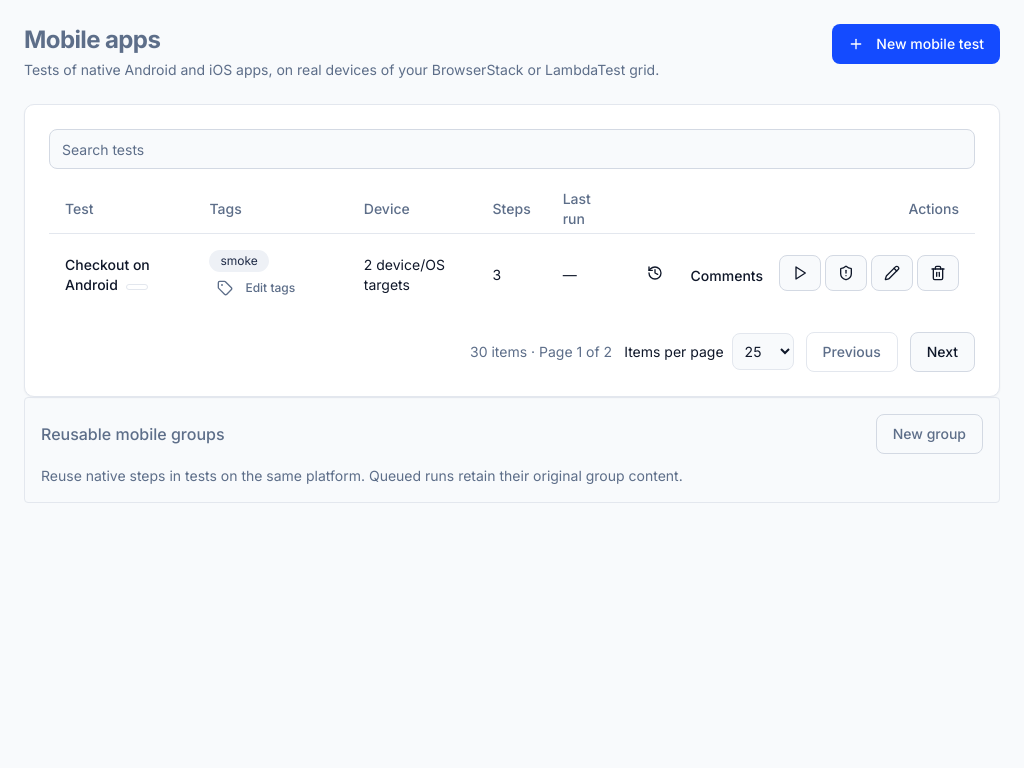
Scenario: loads matrix targets from the full definition before running
The width and height of the screenshot is (1024, 768).
Click the button named "Run Checkout on Android" at [800, 273], box left=779, top=255, right=821, bottom=291
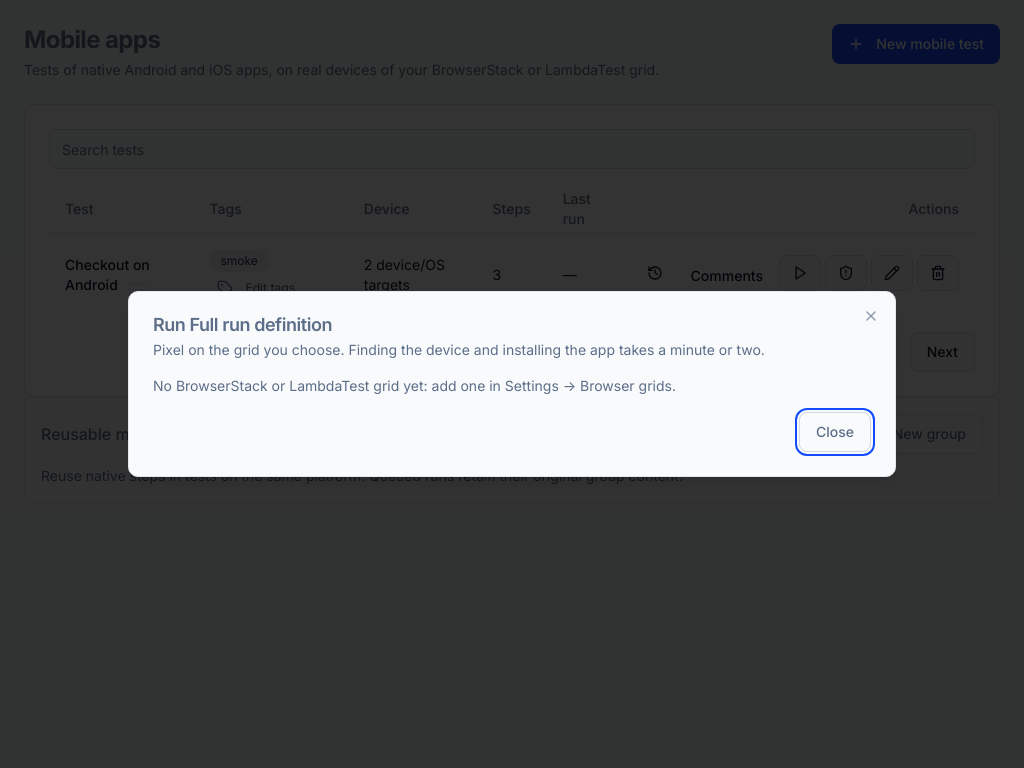
Now the dialog shows "Full run definition", box left=153, top=314, right=332, bottom=335
